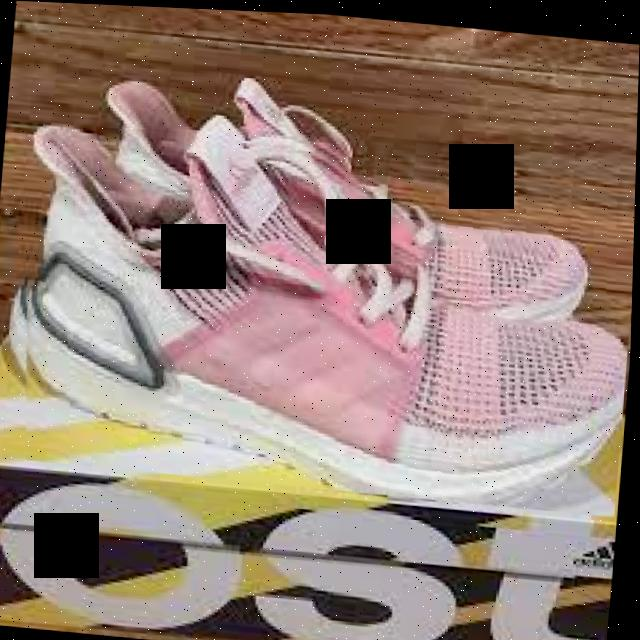shoe: (5, 114, 637, 511)
